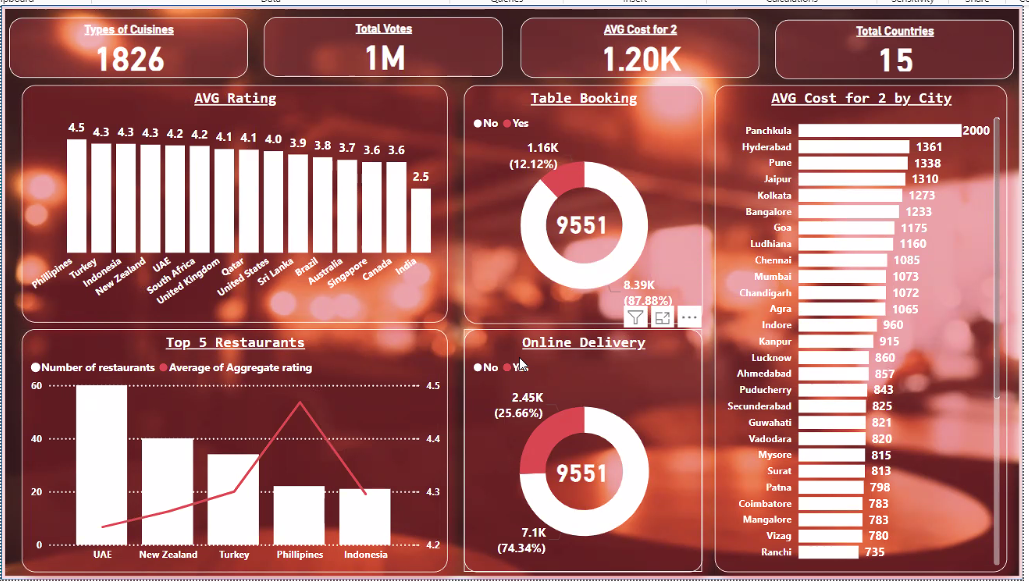

What the dashboard file says about the page in this screenshot:
{"tool":"powerbi","page":{"name":"Page 1","canvas":[1280,720],"ordinal":0},"visuals":[{"type":"columnChart","title":"Average Rating","fields":{"Category":["Sheet1 (2).Country"],"Y":["Avg(zomato.Aggregate rating)"]},"box":[23.3,113.9,478.9,279.9],"z":0},{"type":"donutChart","title":"Table Booking","fields":{"Y":["CountNonNull(zomato.Has Table booking)"],"Series":["zomato.Has Table booking"]},"box":[522.8,115.3,343.1,279.9],"z":1000},{"type":"donutChart","title":"Online delivery","fields":{"Y":["CountNonNull(zomato.Has Online delivery)"],"Series":["zomato.Has Online delivery"]},"box":[522.8,406.2,343.1,308.7],"z":2000},{"type":"card","fields":{"Values":["CountNonNull(zomato.Has Table booking)"]},"box":[625.7,244.3,138.6,64.5],"z":3000},{"type":"card","fields":{"Values":["CountNonNull(zomato.Has Online delivery)"]},"box":[625.7,551.6,138.6,64.5],"z":4000},{"type":"barChart","title":"Average Cost for 2 by City In India","fields":{"Y":["Avg(zomato.Average Cost for two)"],"Category":["zomato.City"]},"box":[890.6,120.8,374.6,594.2],"z":5000},{"type":"cardVisual","fields":{"Data":["zomato.Types of cuisines"]},"box":[23.3,13.7,304.6,100.2],"z":6000},{"type":"cardVisual","fields":{"Data":["Sum(zomato.Votes)"]},"box":[328,13.7,311.5,100.2],"z":7000},{"type":"cardVisual","fields":{"Data":["CountNonNull(Sheet1 (2).Country)"]},"box":[949.6,15.1,315.6,98.8],"z":8000},{"type":"cardVisual","fields":{"Data":["Avg(zomato.Average Cost for two)"]},"box":[642.2,15.1,307.4,100.2],"z":9000},{"type":"lineStackedColumnComboChart","title":"Top 5 Countries","fields":{"Y2":["Avg(zomato.Aggregate rating)"],"Y":["CountNonNull(zomato.Restaurant Name)"],"Category":["Sheet1 (2).Country"]},"box":[23.3,406.2,478.9,308.7],"z":10000}]}

Visuals, with their boxes in screenshot pixels (x1, y1, x2, y2), scaled from the page's 1280x720 canvas onto the 1029x583 screenshot:
"Average Rating" columnChart: [left=19, top=92, right=404, bottom=319]
"Table Booking" donutChart: [left=420, top=93, right=696, bottom=320]
"Online delivery" donutChart: [left=420, top=329, right=696, bottom=579]
card - CountNonNull(zomato.Has Table booking): [left=503, top=198, right=614, bottom=250]
card - CountNonNull(zomato.Has Online delivery): [left=503, top=447, right=614, bottom=499]
"Average Cost for 2 by City In India" barChart: [left=716, top=98, right=1017, bottom=579]
cardVisual - zomato.Types of cuisines: [left=19, top=11, right=264, bottom=92]
cardVisual - Sum(zomato.Votes): [left=264, top=11, right=514, bottom=92]
cardVisual - CountNonNull(Sheet1 (2).Country): [left=763, top=12, right=1017, bottom=92]
cardVisual - Avg(zomato.Average Cost for two): [left=516, top=12, right=763, bottom=93]
"Top 5 Countries" lineStackedColumnComboChart: [left=19, top=329, right=404, bottom=579]
